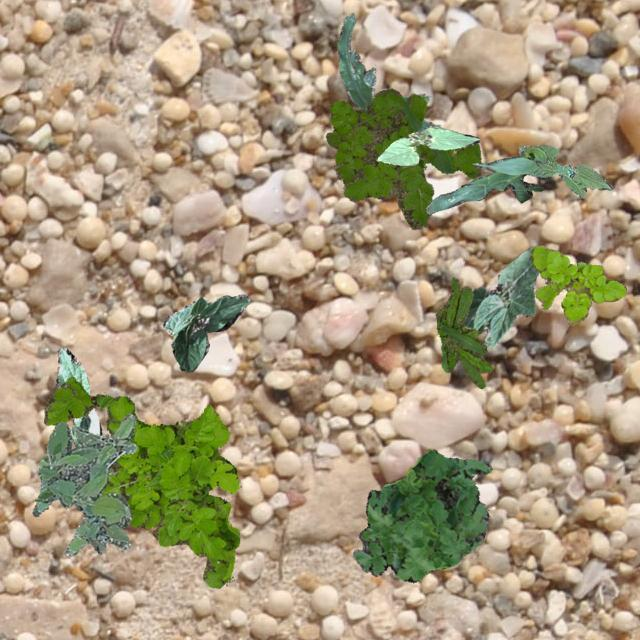crop: (336, 12, 439, 132), (426, 144, 546, 212), (462, 246, 538, 346), (162, 294, 248, 372), (518, 144, 612, 197), (56, 346, 100, 446), (377, 124, 478, 164)
weed: (42, 376, 238, 588), (324, 88, 480, 228), (352, 448, 492, 582), (34, 412, 136, 554), (32, 456, 116, 554), (528, 246, 626, 324), (434, 276, 492, 388)
